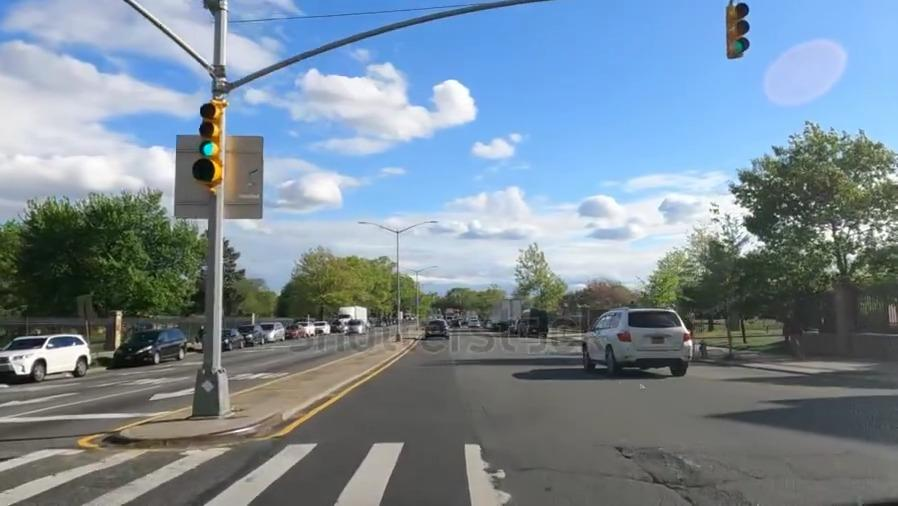car: (578, 307, 693, 377), (0, 326, 94, 384), (119, 331, 189, 367), (418, 314, 449, 342), (216, 328, 241, 355), (238, 325, 263, 347), (264, 322, 284, 341), (287, 323, 305, 340), (297, 316, 311, 335), (346, 319, 362, 335), (313, 319, 326, 335)
pedestrian: (0, 431, 895, 506)
person: (197, 323, 206, 339)
road damage: (617, 435, 731, 506)
traffic light: (188, 99, 238, 198), (717, 3, 755, 61)
